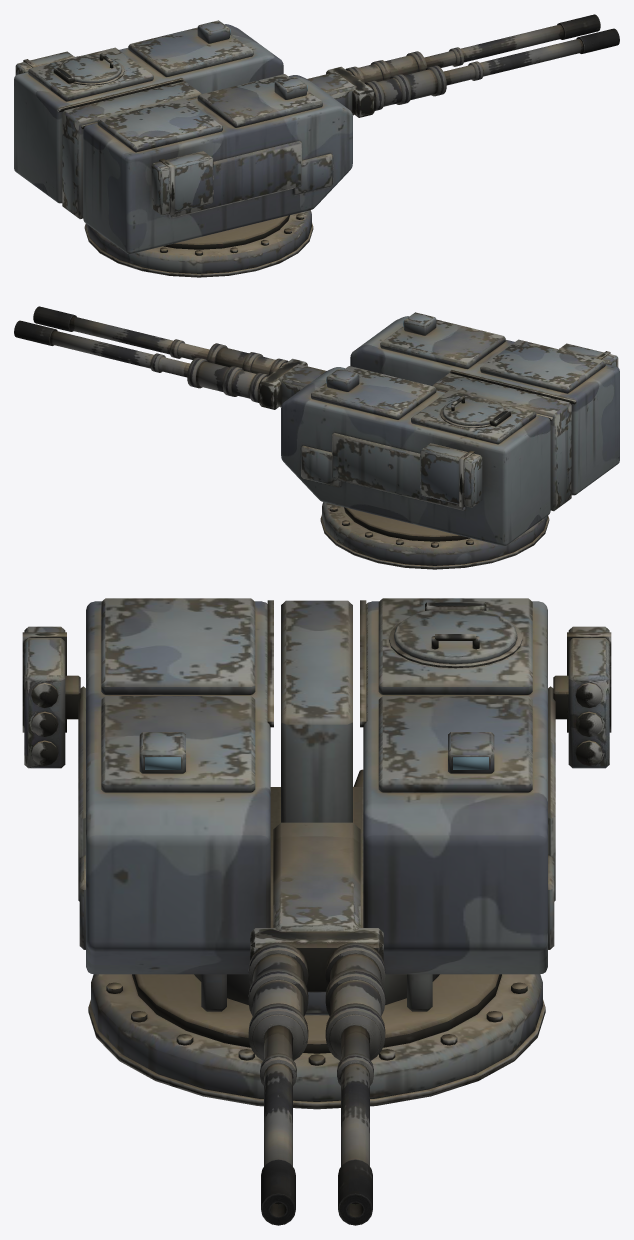
Rendered from turret_kit_t1_sea_fog.glb.
3 views of the same model, one above another, from view 1: azimuth 30°, elevation 25°; view 2: azimuth 150°, elevation 25°; view 3: azimuth 270°, elevation 25° (orthographic). The views are drawn at different scales.
Parts seen in each view (by area): view 1: turret_twin_t1, guns, pods; view 2: turret_twin_t1, guns, pods; view 3: turret_twin_t1, guns, pods.
Boxes of the visible parts, bbox=[...] form: turret_twin_t1: bbox=[14, 20, 352, 277]; guns: bbox=[308, 14, 619, 117]; pods: bbox=[15, 51, 213, 215]; turret_twin_t1: bbox=[281, 312, 619, 569]; guns: bbox=[14, 306, 325, 409]; pods: bbox=[420, 343, 618, 507]; turret_twin_t1: bbox=[78, 598, 555, 1109]; guns: bbox=[248, 822, 385, 1225]; pods: bbox=[22, 626, 611, 768].
Bounding box in the file's own units: 2.41 × 0.695 × 1.15.
4 materials, 3 textured.
